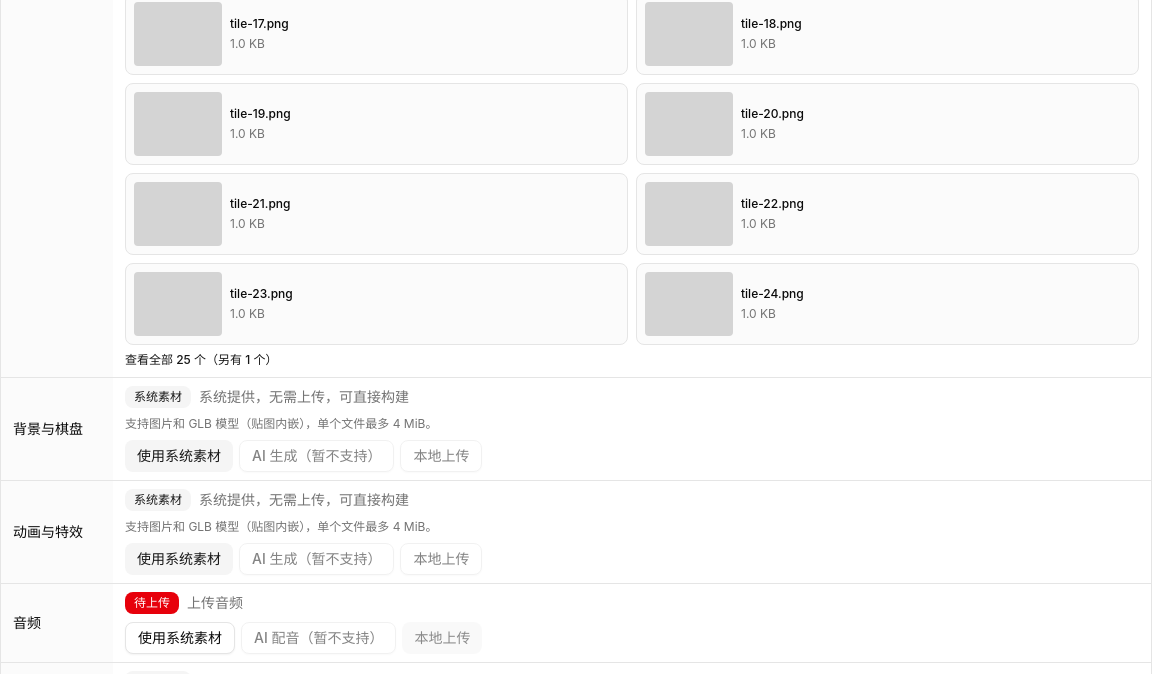
Test: PlayableWorkspace › lets the user expand every imported resource in a confirmation field
(page scrolled)
Expected: the picture "tile-25.png" is not shown
Click the button with aria-label "查看全部 25 个已绑定文件".
click(201, 360)  # box [125, 352, 277, 368]
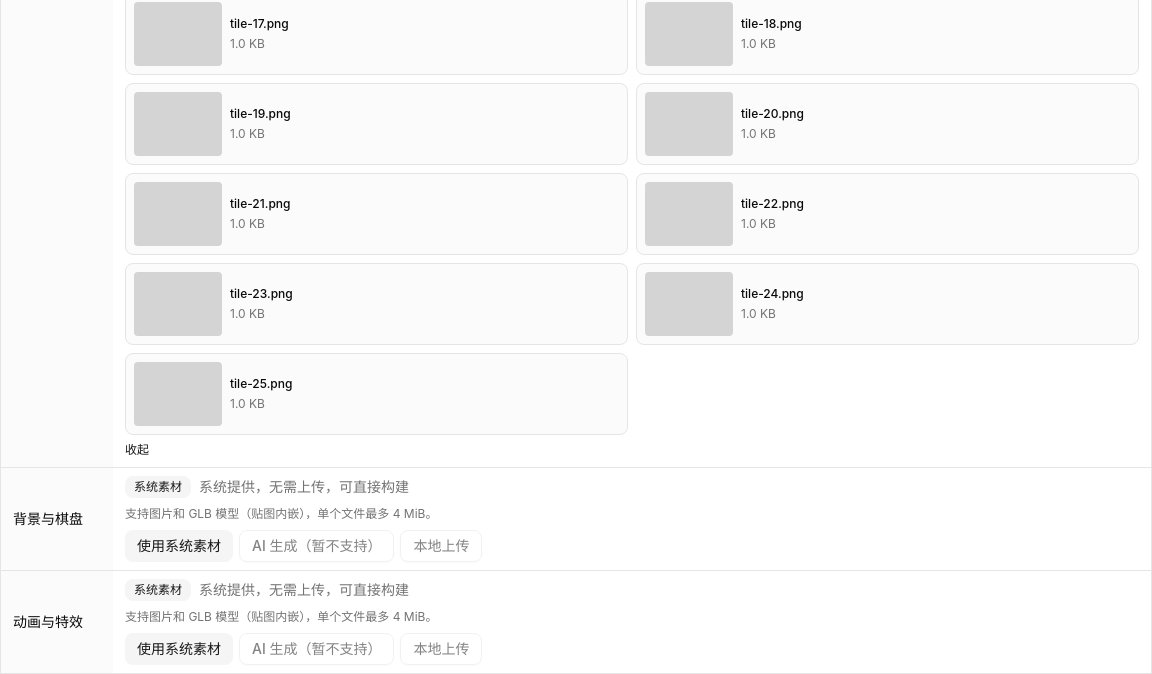
Expected: the button with aria-label "收起已绑定文件" is shown, [125, 442, 149, 458]
